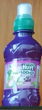blueberries: (2, 3, 41, 106)
